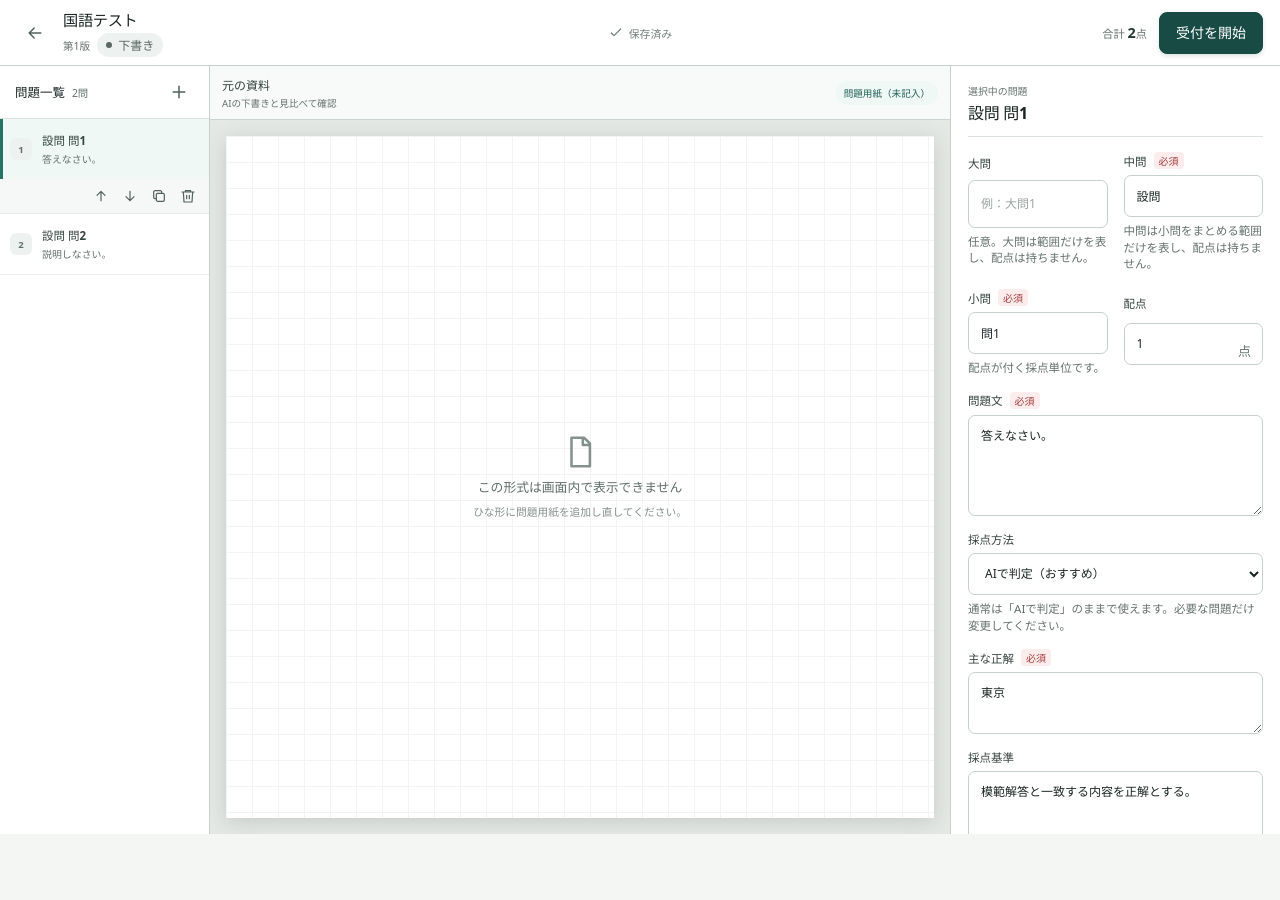
Test case: TemplateEditorPage autosave and publish recovery › shows all start blockers and keeps template-global issues non-clickable
Click the button "受付を開始".
click(1211, 32)  # box 1159,12 -> 1263,54
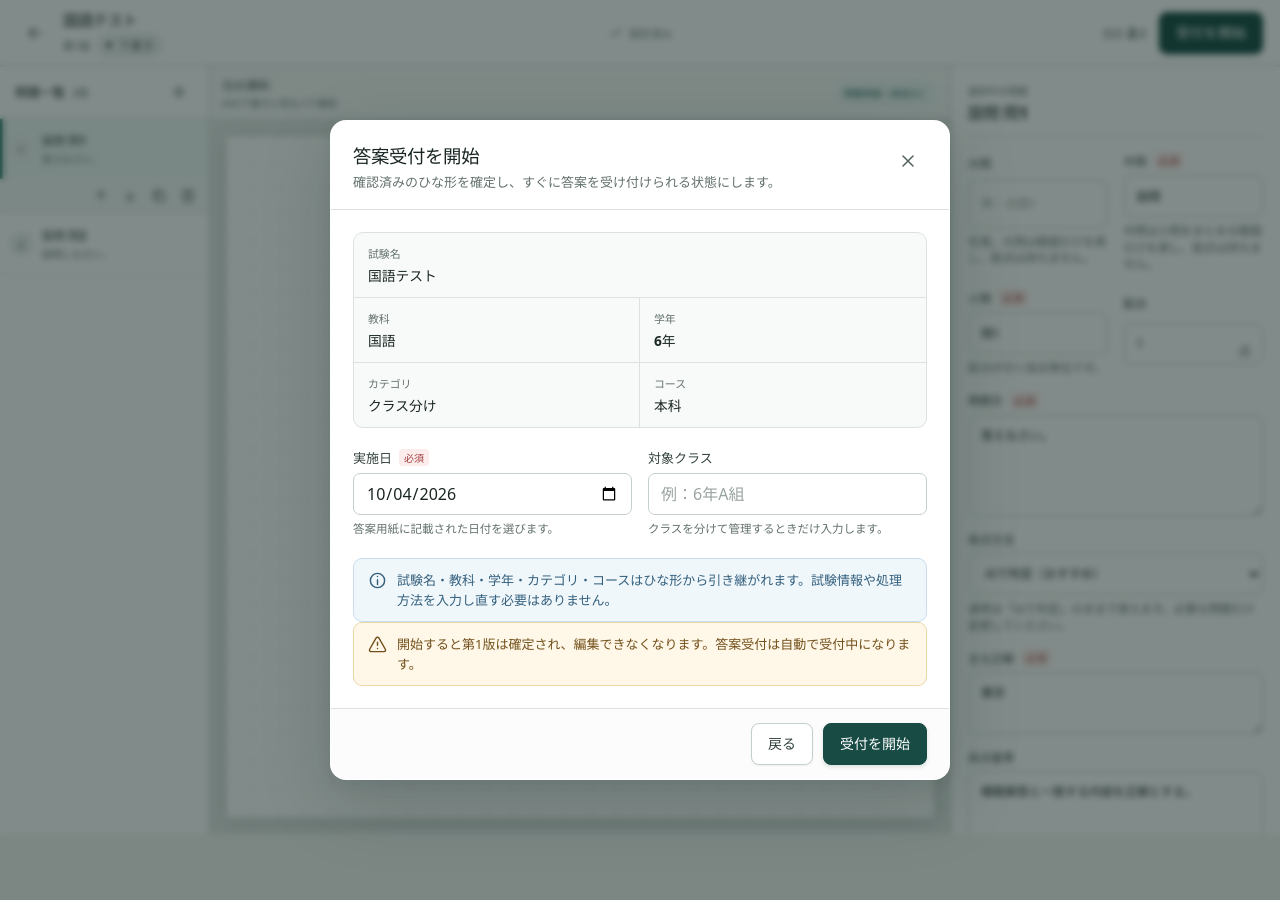
Click the button "受付を開始".
click(875, 744)  # box 823,723 -> 927,765
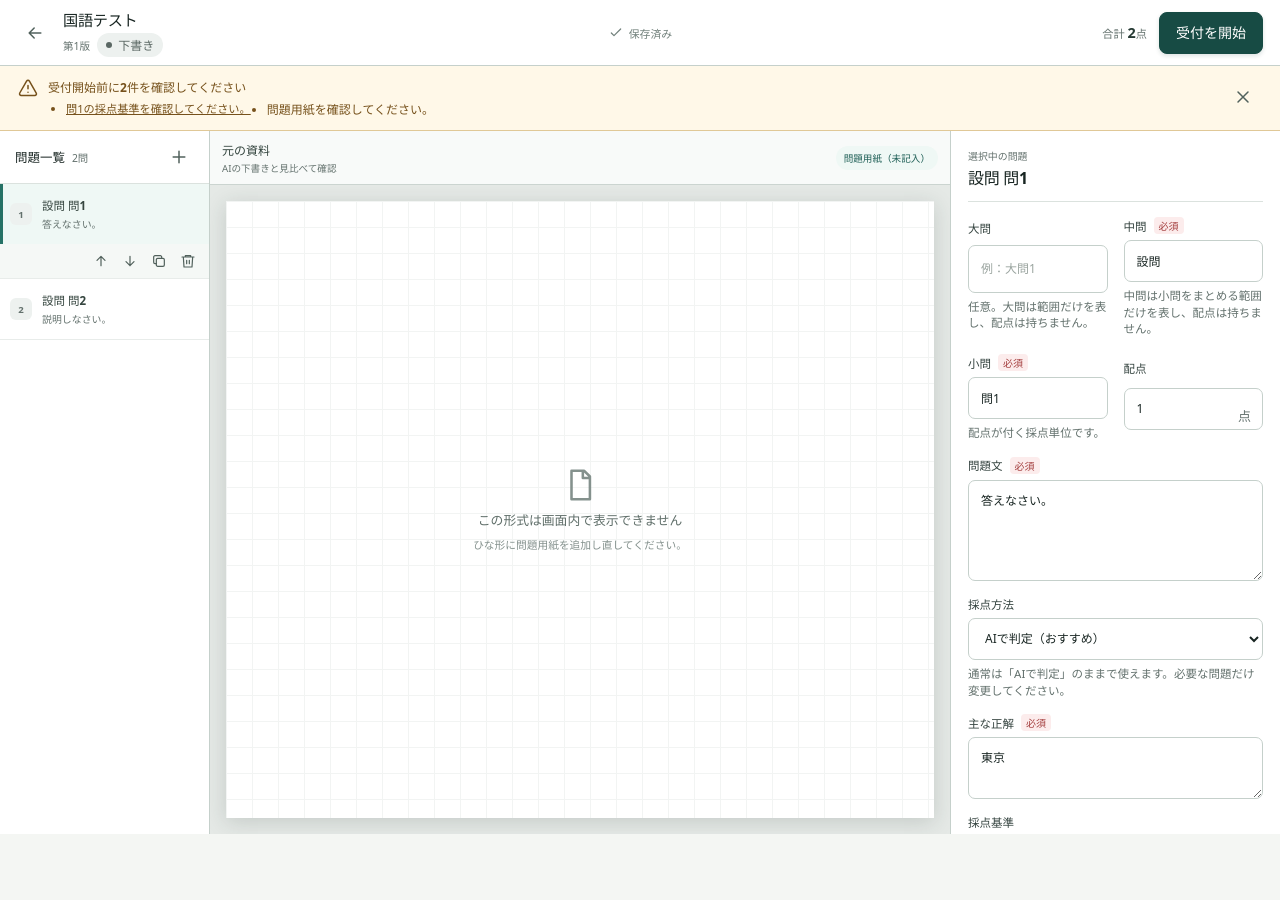
Check: the button "問1の採点基準を確認してください。" is shown, box 66,100 -> 251,116
Check: the text "問題用紙を確認してください。" is shown, box 267,101 -> 434,118
